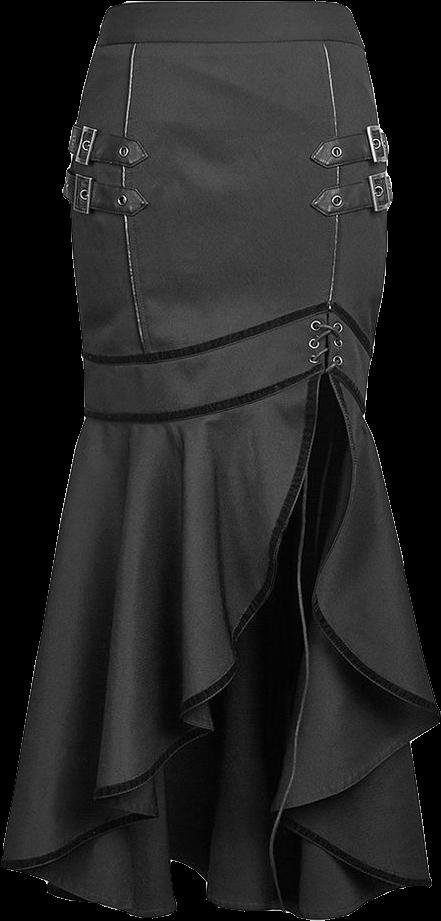Hemline: (0, 375, 440, 886)
Waistline: (81, 360, 380, 422), (80, 300, 374, 360), (89, 29, 372, 55), (104, 0, 351, 13)
